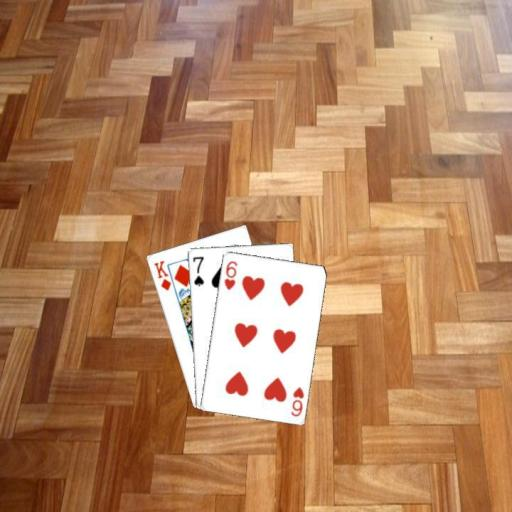6H: (221, 257, 239, 291), (287, 384, 305, 418)
7S: (189, 253, 205, 287)
KD: (151, 258, 172, 293)
